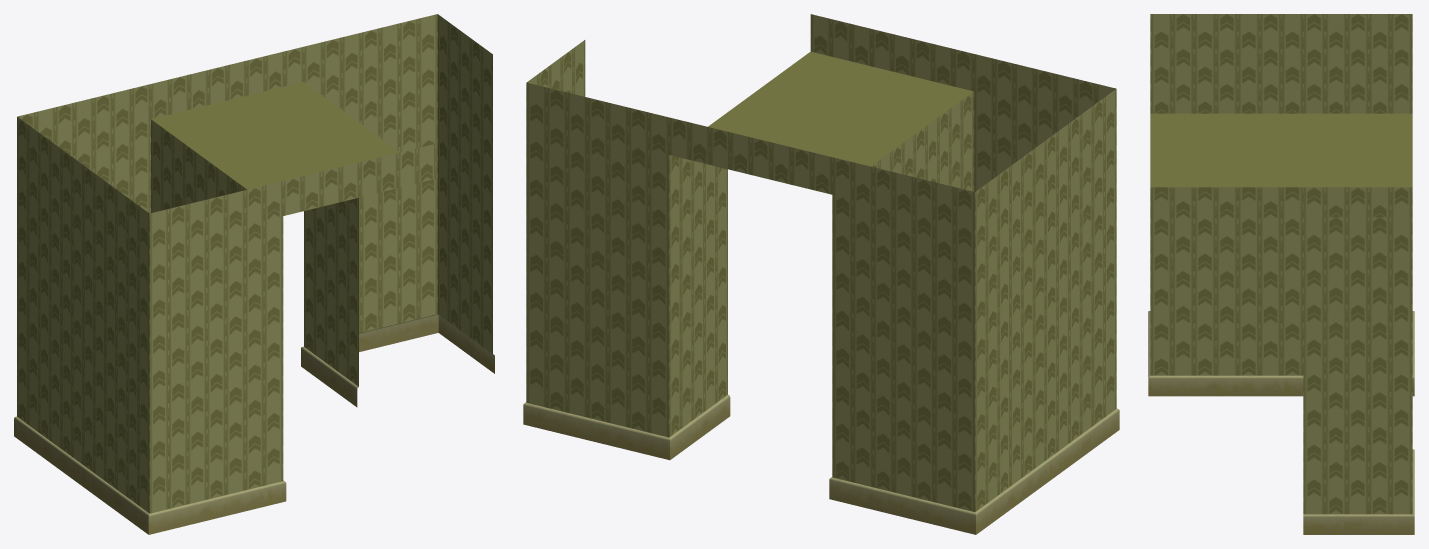
File: WallBottomFatWithHoleCutRight.fbx
3 views of the same model, side by side, from view 1: azimuth 30°, elevation 25°; view 2: azimuth 150°, elevation 25°; view 3: azimuth 270°, elevation 25° (orthographic). The views are drawn at different scales.
Parts seen in each view (by area): view 1: WallBottomFatWithHoleCutRight; view 2: WallBottomFatWithHoleCutRight; view 3: WallBottomFatWithHoleCutRight.
Boxes of the visible parts, left/top/right/bottom form: WallBottomFatWithHoleCutRight: left=14, top=14, right=494, bottom=534; WallBottomFatWithHoleCutRight: left=523, top=14, right=1119, bottom=534; WallBottomFatWithHoleCutRight: left=1148, top=14, right=1414, bottom=534.
Size of the model in its own units: 555 by 400 by 305.
